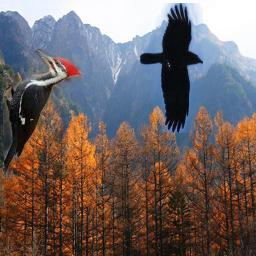Crow: (140, 3, 203, 133)
Woodpecker: (3, 49, 82, 179)
